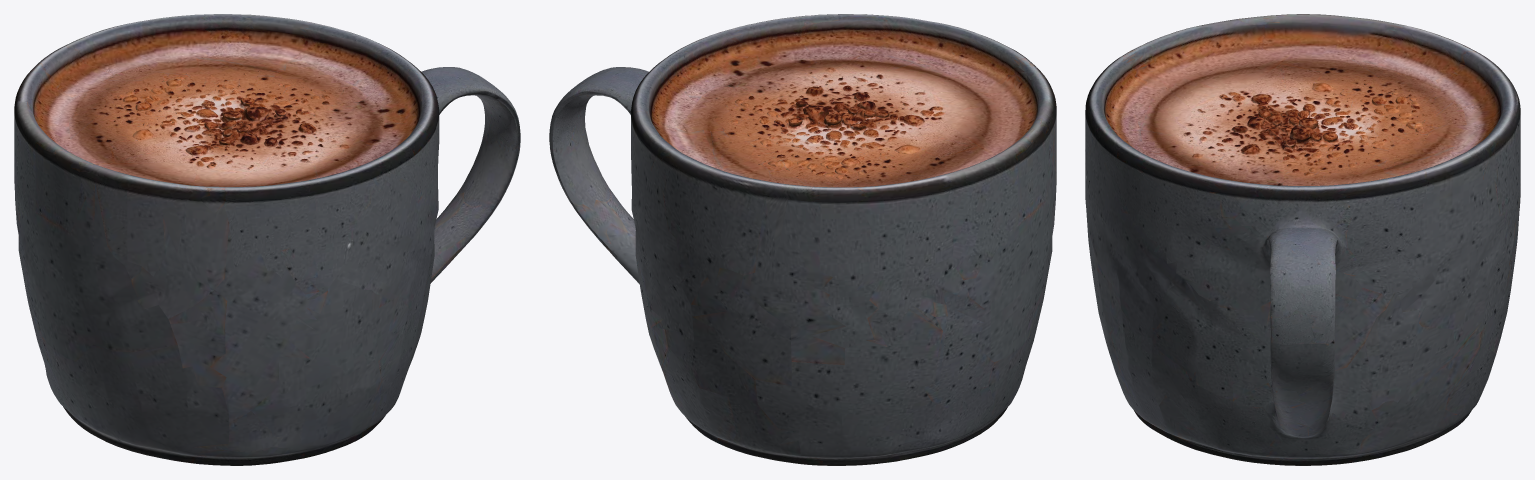
File: umbra.glb
3 renders of one model, left to right at view 1: azimuth 30°, elevation 25°; view 2: azimuth 150°, elevation 25°; view 3: azimuth 270°, elevation 25°, orthographic.
Visible parts, largest first — view 1: Mesh_0; view 2: Mesh_0; view 3: Mesh_0.
Boxes of the visible parts, box(x1,y1,x2,y2) form: Mesh_0: box(14, 14, 520, 465); Mesh_0: box(549, 14, 1056, 465); Mesh_0: box(1085, 14, 1520, 465).
Size of the model in its own units: 1.9 by 1.15 by 1.53.
1 material, 1 textured.
